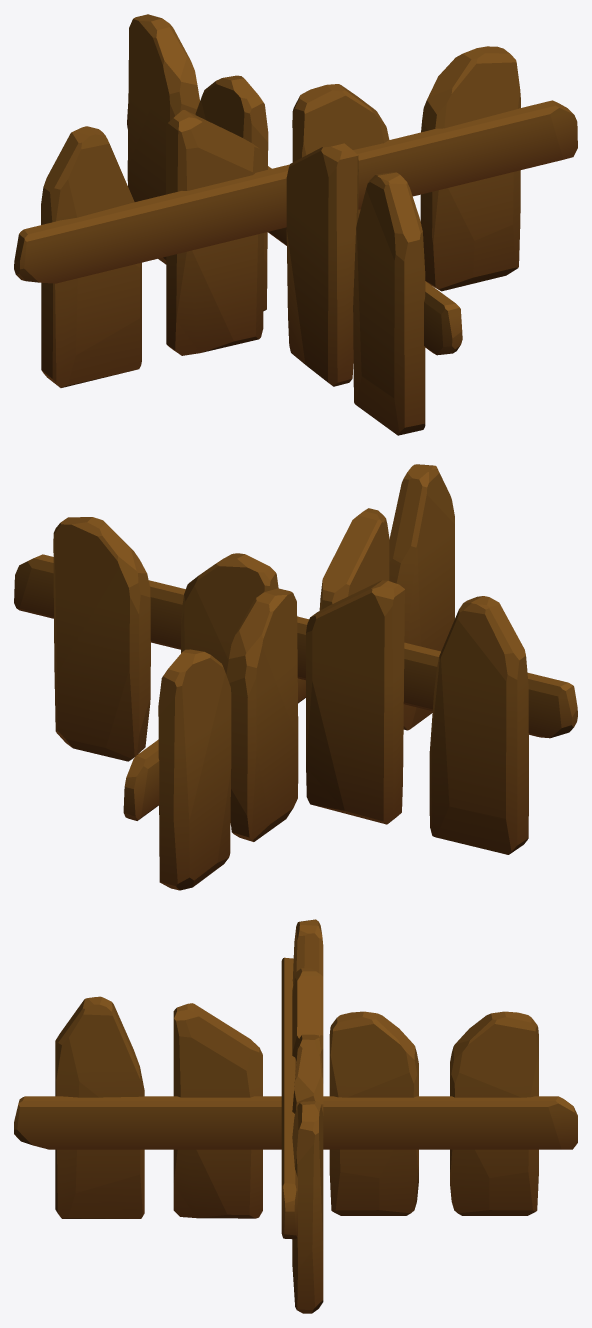
File: WoodFence05.fbx
3 renders of one model, top to bottom at view 1: azimuth 30°, elevation 25°; view 2: azimuth 150°, elevation 25°; view 3: azimuth 270°, elevation 25°, orthographic. The views are drawn at different scales.
Visible parts, largest first — view 1: LOD0; view 2: LOD0; view 3: LOD0.
Boxes of the visible parts, x1,y1,x2,y2 form: LOD0: (14, 14, 577, 435); LOD0: (14, 464, 577, 890); LOD0: (14, 919, 577, 1313).
Size of what is drawn, in the model's own units: 368 by 368 by 153.
